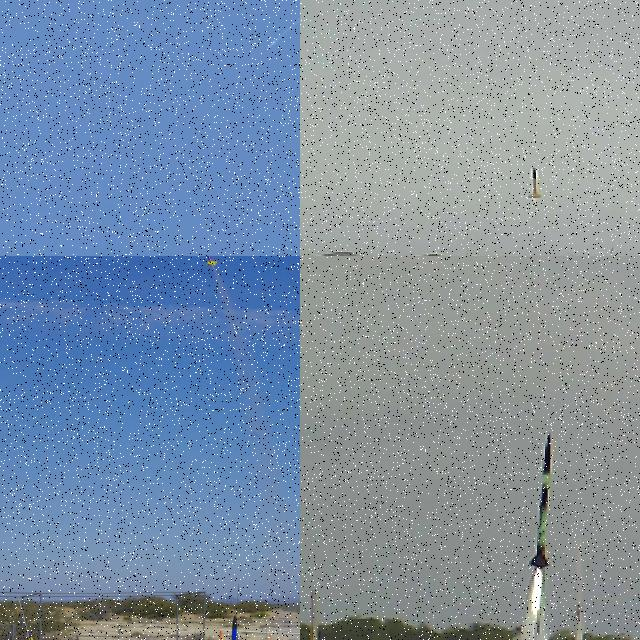Rocket: (526, 432, 552, 569), (527, 166, 542, 198), (222, 615, 240, 640), (192, 256, 217, 266), (28, 632, 39, 640), (268, 40, 275, 49)
